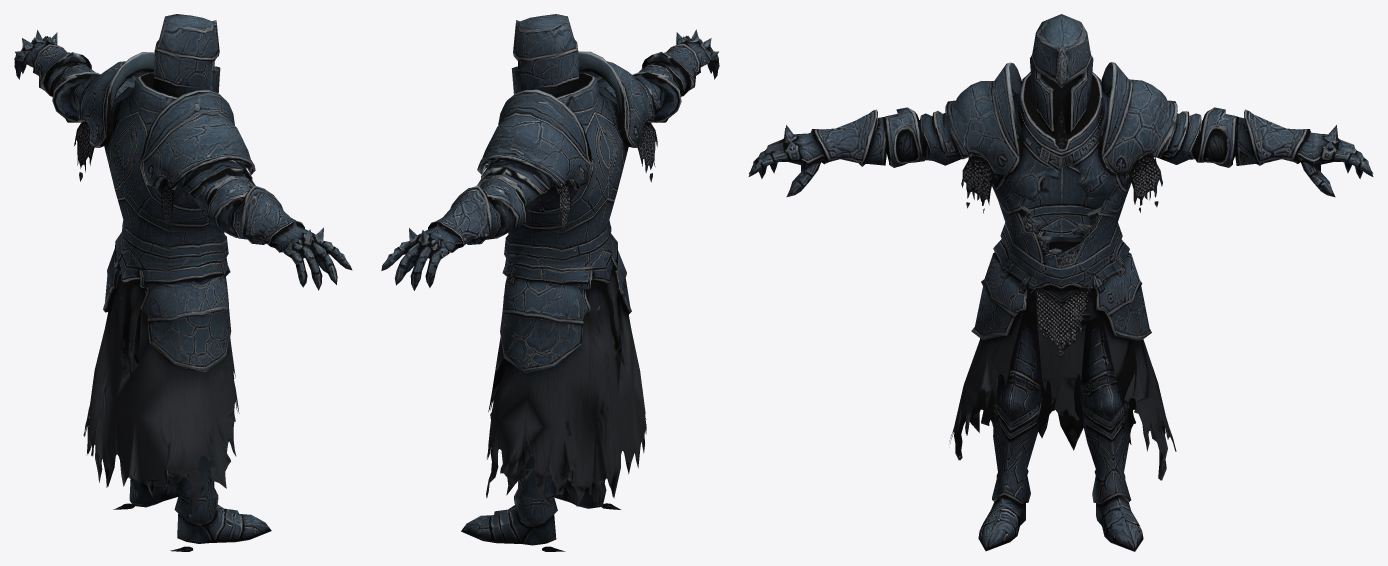
The model's file is HOLLOW-KNIGHT.fbx.
3 views of the same model, side by side, from view 1: azimuth 30°, elevation 25°; view 2: azimuth 150°, elevation 25°; view 3: azimuth 270°, elevation 25° (orthographic).
Parts seen in each view (by area): view 1: meshes[0]; view 2: meshes[0]; view 3: meshes[0].
Boxes of the visible parts, x1,y1,x2,y2 form: meshes[0]: (14,14,352,551); meshes[0]: (381,14,719,551); meshes[0]: (748,14,1373,551).
Size of the model in its own units: 0.2285 by 0.9004 by 0.998.
1 material, 1 textured.
